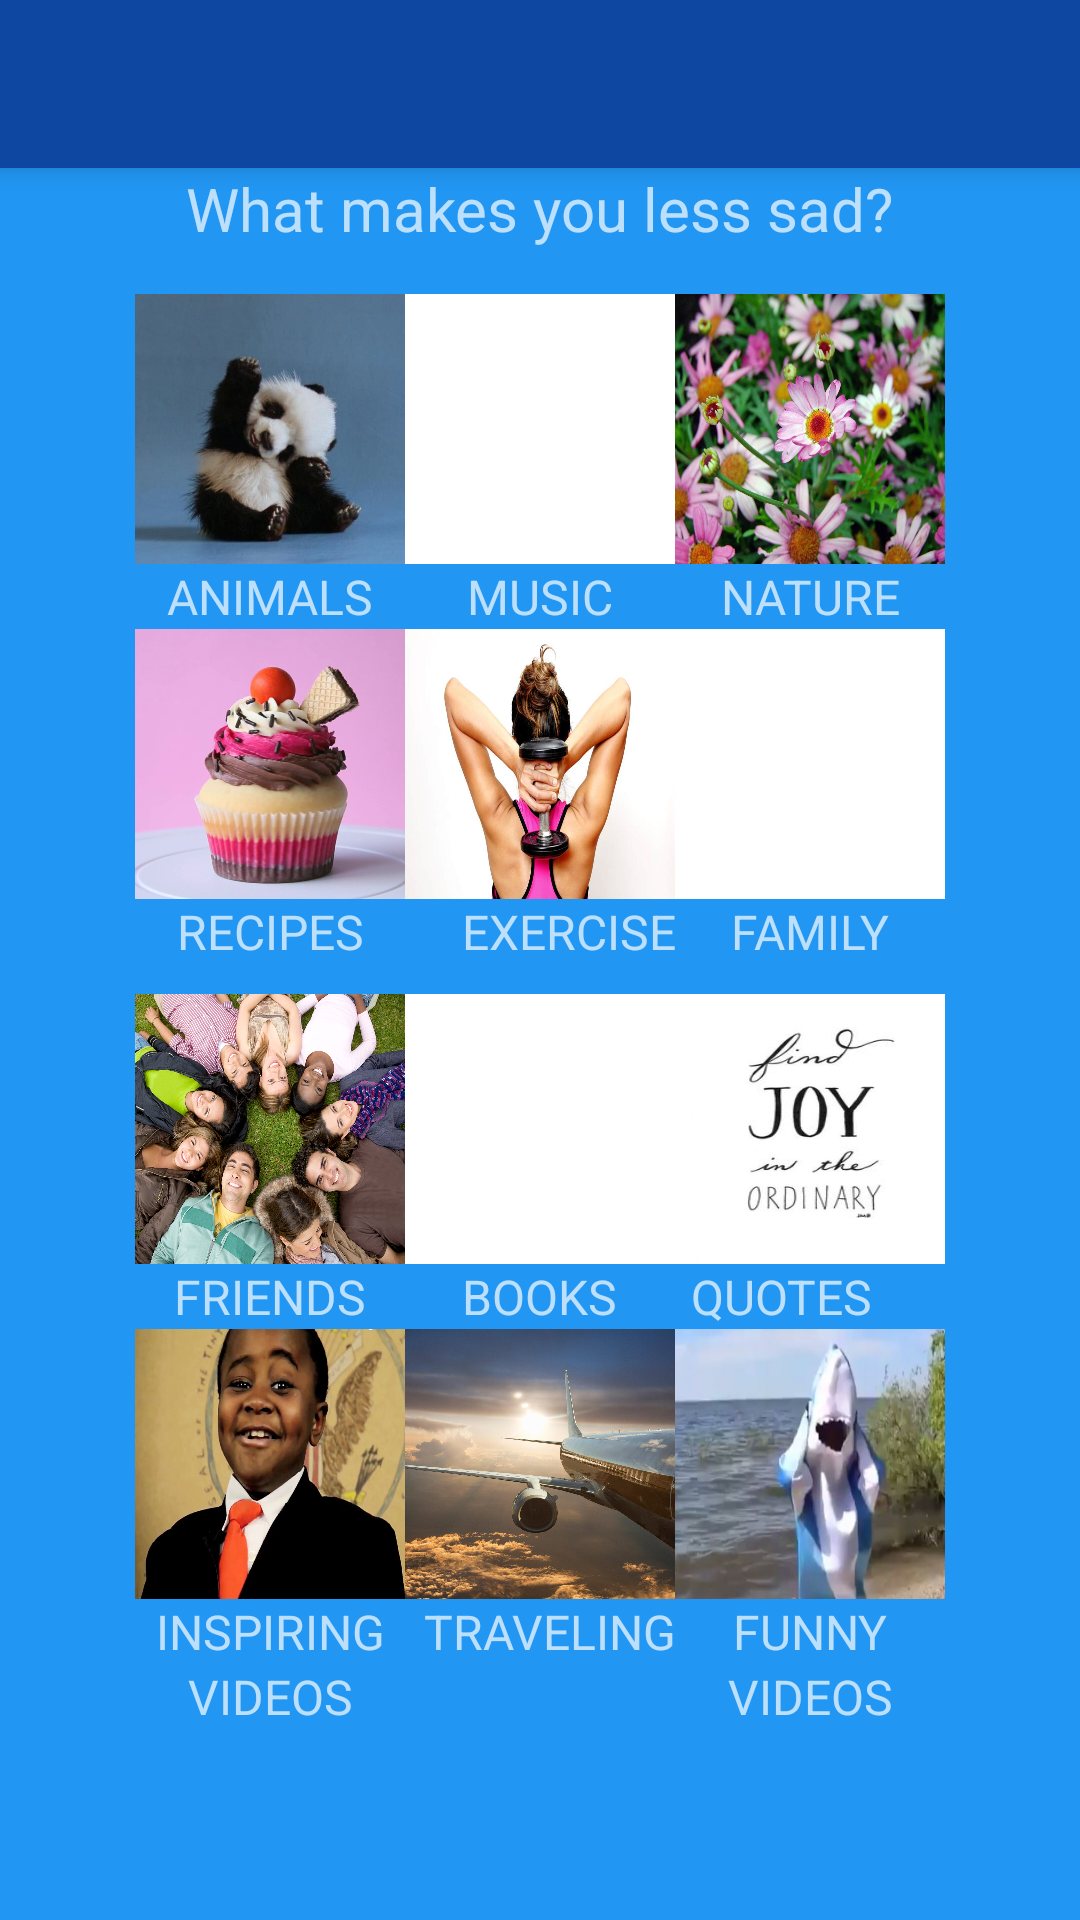

Where to tap for icons on this 1080 x 1920 app screen, as point (x, y):
cupcake: point (270, 764)
flowers: point (810, 429)
kid: point (270, 1464)
panda: point (270, 429)
